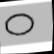no answer: (2, 10, 38, 38)
